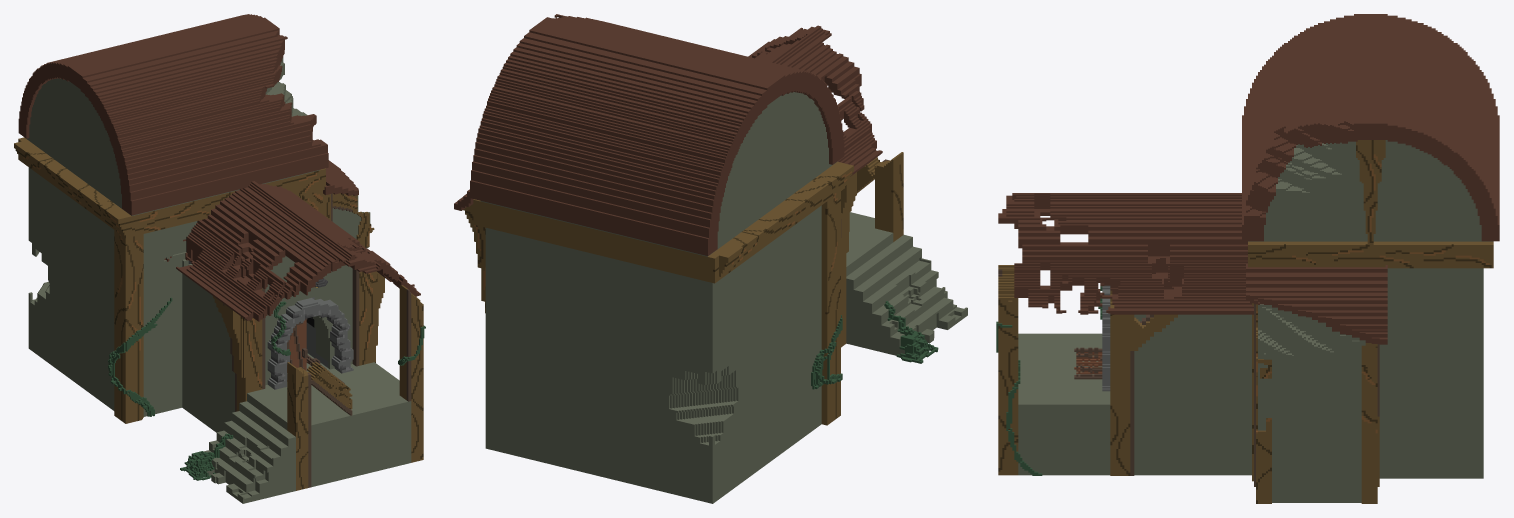
File: broken house.FBX
3 views of the same model, side by side, from view 1: azimuth 30°, elevation 25°; view 2: azimuth 150°, elevation 25°; view 3: azimuth 270°, elevation 25° (orthographic). The views are drawn at different scales.
Visible parts, largest first — view 1: default; view 2: default; view 3: default.
Boxes of the visible parts, bbox=[...] form: default: bbox=[14, 14, 425, 503]; default: bbox=[454, 14, 967, 503]; default: bbox=[996, 14, 1499, 503].
Size of the model in its own units: 17.8 by 19.8 by 25.2.
1 material, 1 textured.
